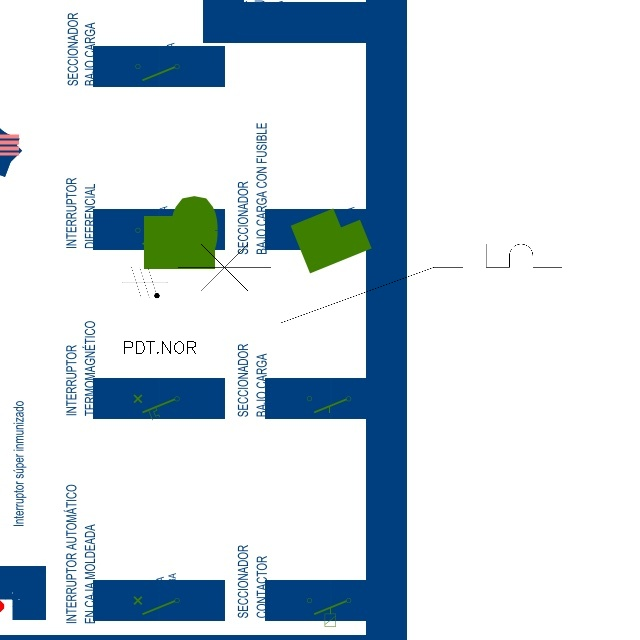interruptor_termomagnetico: (167, 234, 571, 333)
